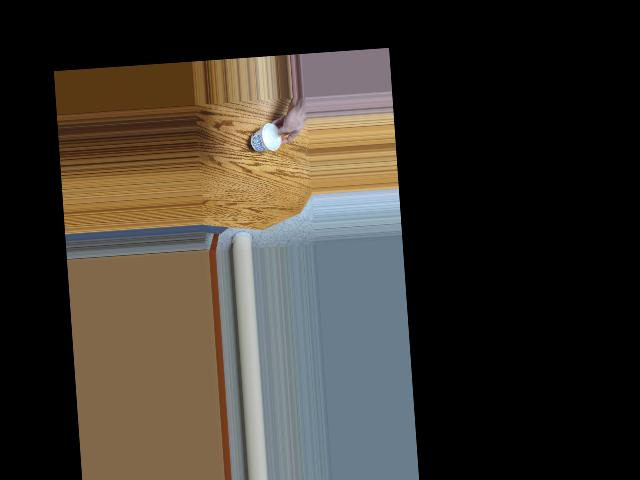cotage: (247, 128, 282, 152)
